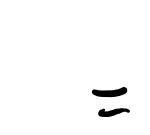eqv: (85, 82, 135, 120)
